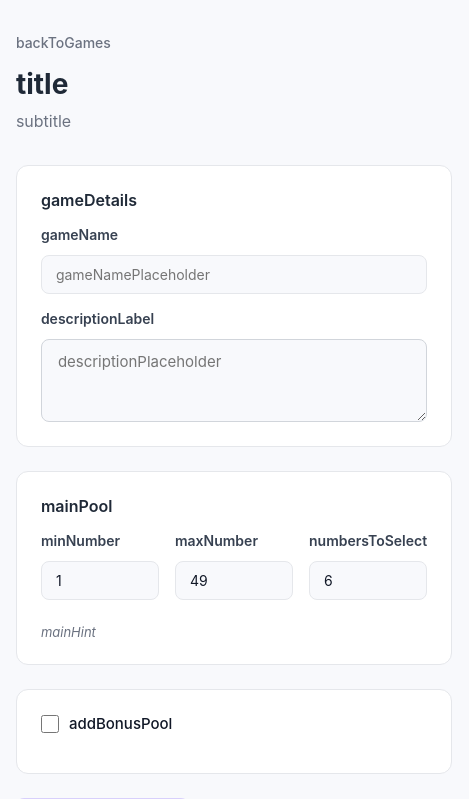
CreateGamePage › should show bonus pool fields when checkbox is checked
expect the field labelled "bonusMin" is not shown: met
// Check the bonus checkbox
Click the checkbox labelled "addBonusPool" at x=50, y=724, box [41,714,59,732]
(page scrolled)
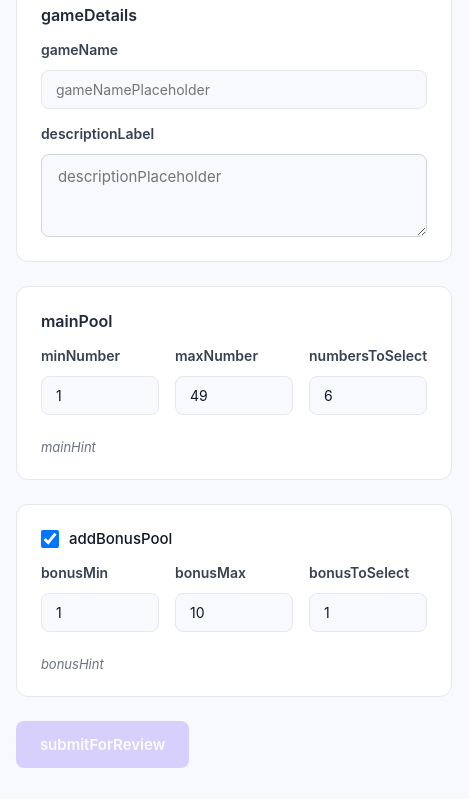
expect the number field labelled "bonusMin" is shown: met, box [41,593,159,632]
expect the number field labelled "bonusMax" is shown: met, box [175,593,293,632]
expect the number field labelled "bonusToSelect" is shown: met, box [309,593,427,632]
